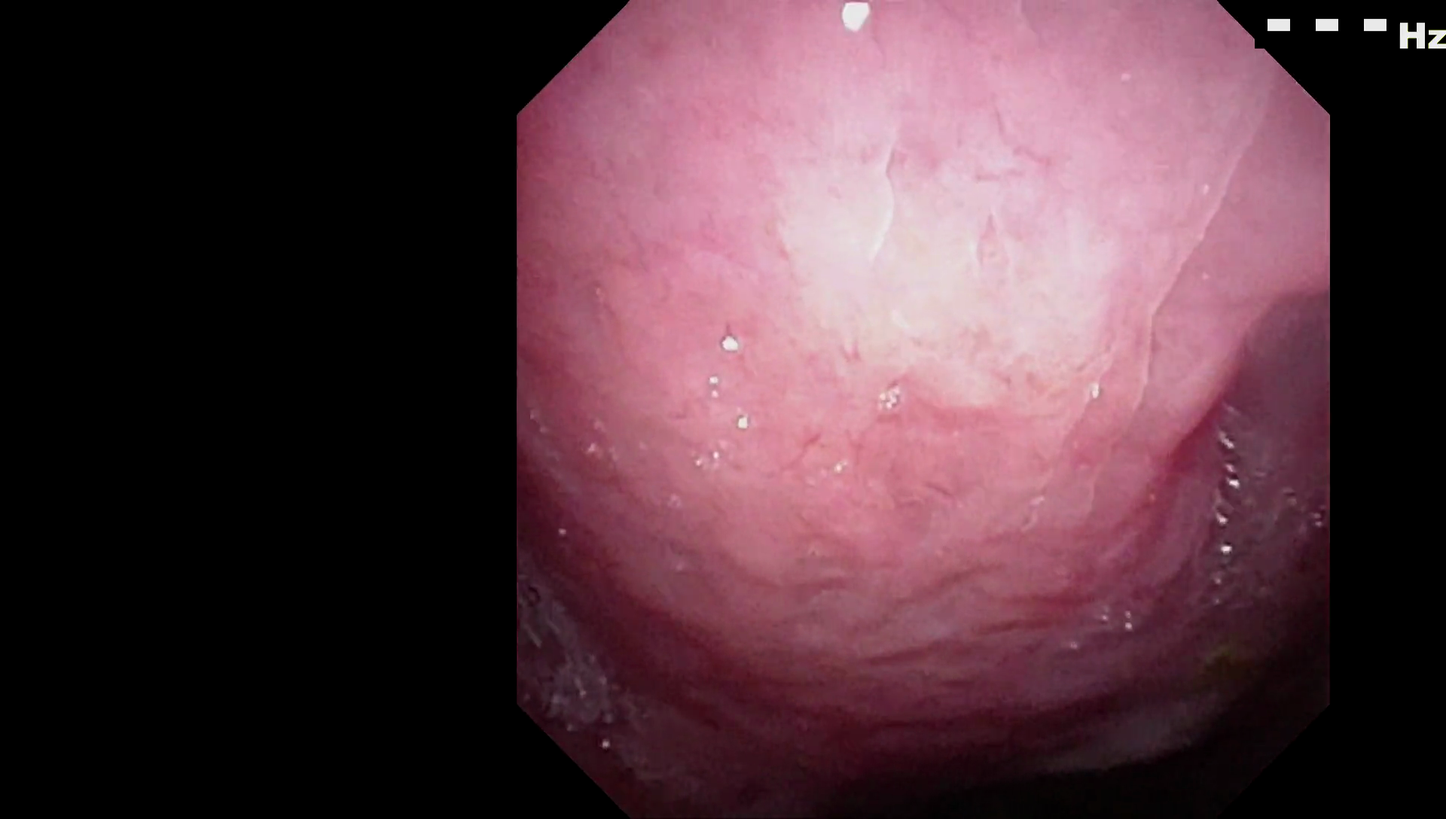close_wall: (590, 46, 1220, 598)
next: (785, 632, 1312, 819)
